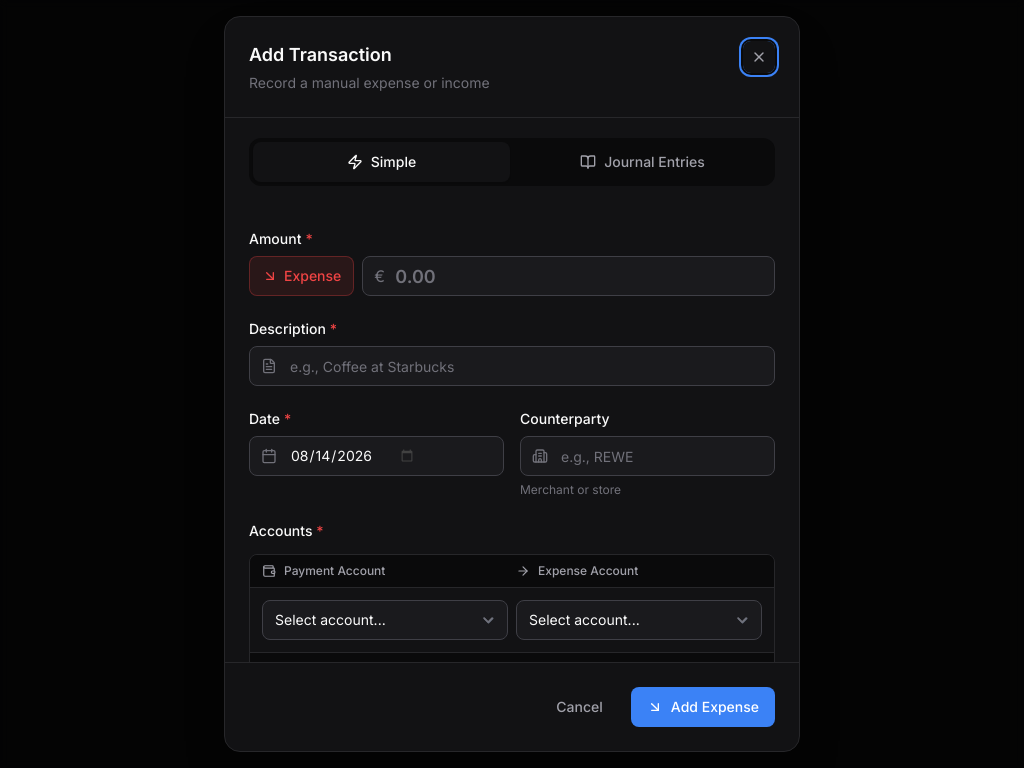
it: AddTransactionModal › expense/income toggle › auto-switches to expense when negative sign is typed
First switch to income
Click the button with test id "type-toggle" at (302, 276), box left=249, top=256, right=354, bottom=296
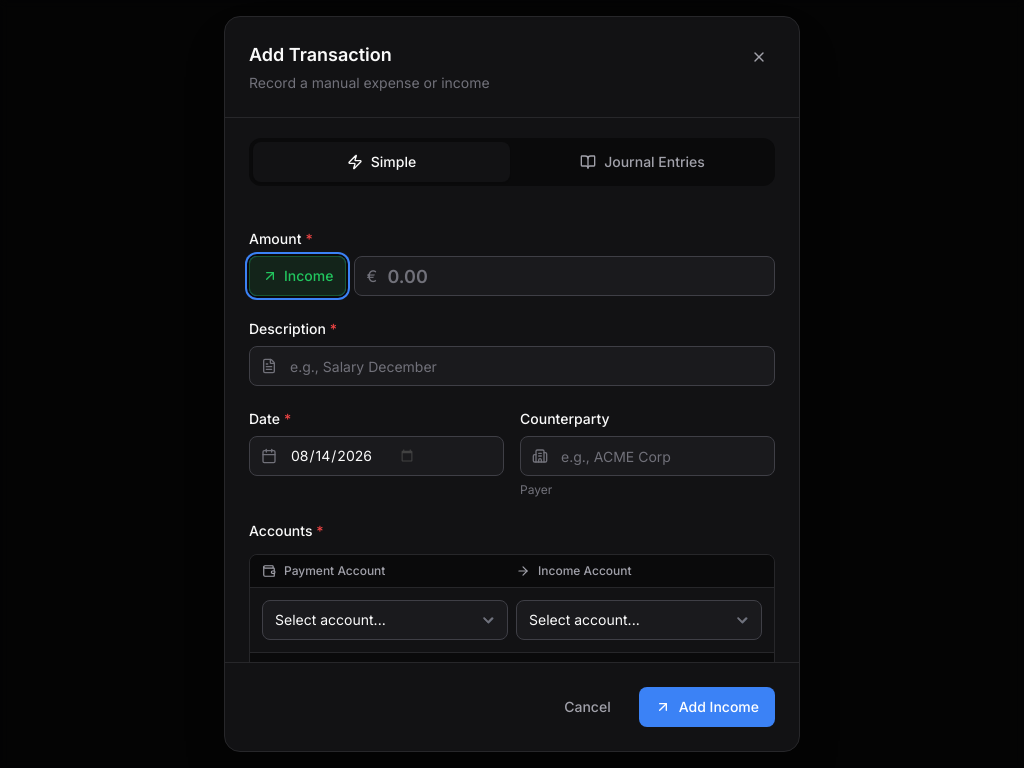
Expected: the button with test id "type-toggle" reads "Income", left=249, top=256, right=346, bottom=296
Type negative amount - should auto-switch to expense
Type "-25" into the number field with placeholder "0.00" at (565, 276), box left=354, top=256, right=775, bottom=296
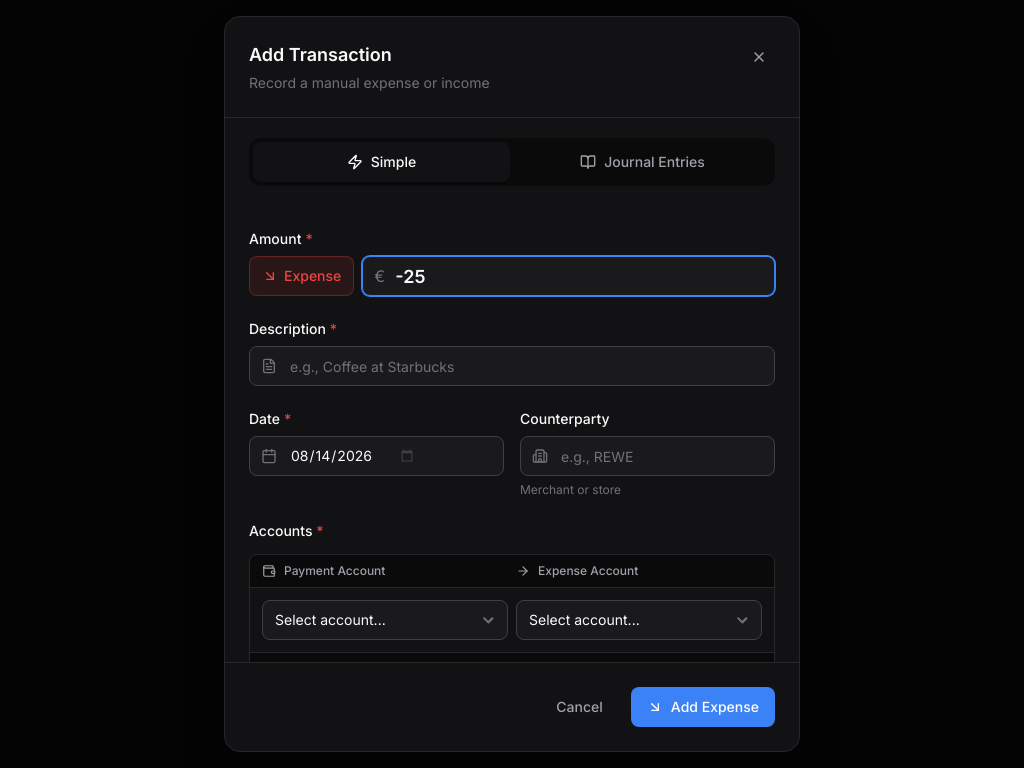
Expected: the button with test id "type-toggle" reads "Expense", left=249, top=256, right=354, bottom=296
